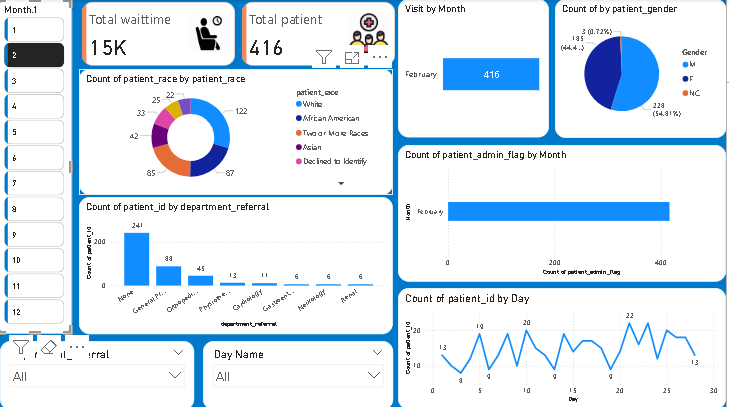

This screenshot's page, from the dashboard's own definition file:
{"tool":"powerbi","page":{"name":"Page 1","canvas":[1280,720],"ordinal":0},"visuals":[{"type":"cardVisual","fields":{"Data":["Sum(Data (2).patient_waittime)","CountNonNull(Data (2).patient_id)"]},"box":[144,0,560.1,122.9],"z":0},{"type":"actionButton","box":[0,0,100,40],"z":1000},{"type":"advancedSlicerVisual","fields":{"Values":["Data (2).Month.1"]},"box":[0,0,131.7,588.3],"z":2000},{"type":"pieChart","fields":{"Category":["Data (2).patient_gender"],"Y":["CountNonNull(Data (2).patient_gender)"]},"box":[979.3,0,300.7,243.6],"z":3000},{"type":"donutChart","fields":{"Category":["Data (2).patient_race"],"Y":["CountNonNull(Data (2).patient_race)"]},"box":[144,122.9,551.3,221.2],"z":4000},{"type":"clusteredColumnChart","fields":{"Category":["Data (2).department_referral"],"Y":["CountNonNull(Data (2).patient_id)"]},"box":[144,347.7,551.3,240.5],"z":5000},{"type":"clusteredBarChart","fields":{"Y":["CountNonNull(Data (2).patient_admin_flag)"],"Category":["Data (2).Month"]},"box":[703.8,257,576.2,240.2],"z":6000},{"type":"lineChart","fields":{"Category":["Data (2).date.Variation.Date Hierarchy.Day"],"Y":["CountNonNull(Data (2).patient_id)"]},"box":[704,507,576,213],"z":7000},{"type":"slicer","fields":{"Values":["Data (2).Day Name"]},"box":[361.2,599.7,334.3,120.9],"z":8000},{"type":"slicer","fields":{"Values":["Data (2).department_referral"]},"box":[5,599.7,341,120.9],"z":9000},{"type":"funnel","fields":{"Category":["Data (2).Month"],"Y":["Data (2).Visit"]},"box":[703.3,0,265,243.3],"z":10000}]}

Visuals, with their boxes in screenshot pixels (x1, y1, x2, y2), scaled from the page's 1280x720 canvas onto the 729x407 screenshot:
cardVisual - Sum(Data (2).patient_waittime) x CountNonNull(Data (2).patient_id): 82/0/401/69
actionButton: 0/0/57/23
advancedSlicerVisual - Data (2).Month.1: 0/0/75/333
pieChart - Data (2).patient_gender x CountNonNull(Data (2).patient_gender): 558/0/728/138
donutChart - Data (2).patient_race x CountNonNull(Data (2).patient_race): 82/69/396/195
clusteredColumnChart - Data (2).department_referral x CountNonNull(Data (2).patient_id): 82/197/396/332
clusteredBarChart - CountNonNull(Data (2).patient_admin_flag) x Data (2).Month: 401/145/728/281
lineChart - Data (2).date.Variation.Date Hierarchy.Day x CountNonNull(Data (2).patient_id): 401/287/728/406
slicer - Data (2).Day Name: 206/339/396/406
slicer - Data (2).department_referral: 3/339/197/406
funnel - Data (2).Month x Data (2).Visit: 401/0/551/138
